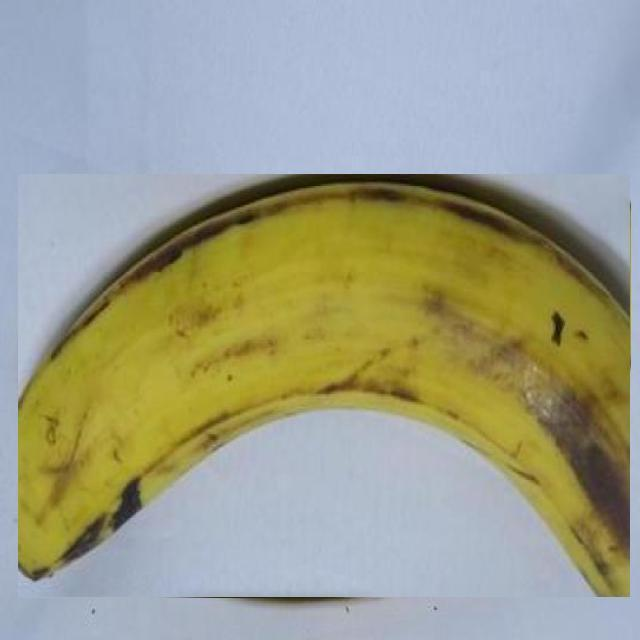Muito Madura: (18, 174, 631, 598)
